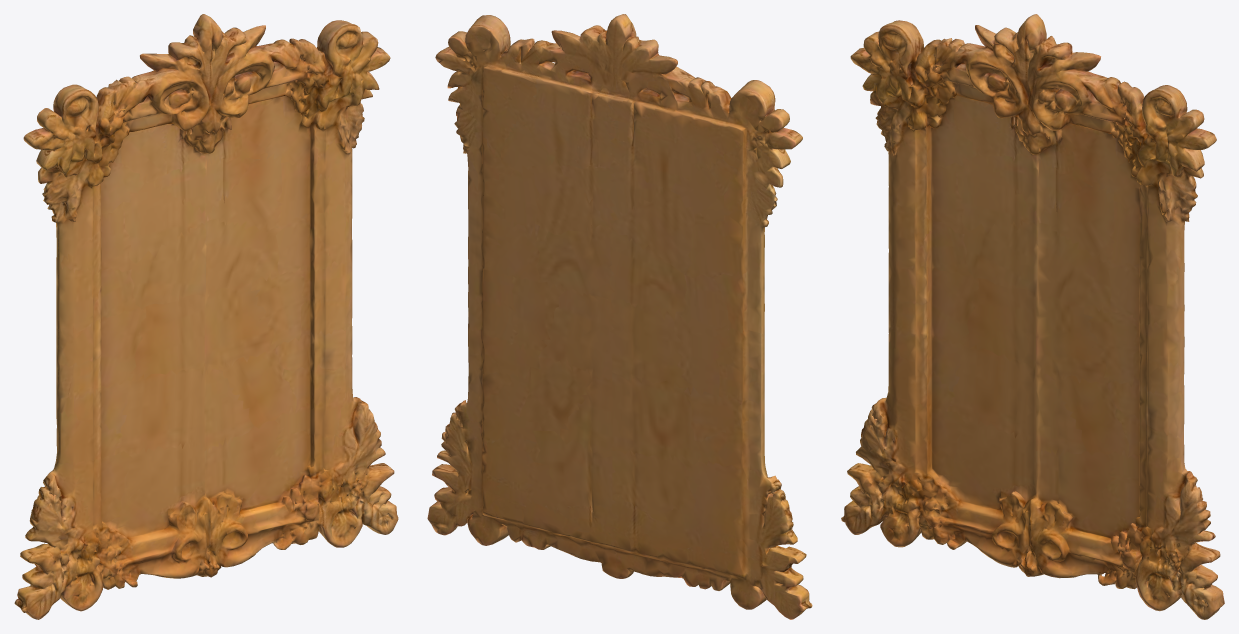
The picture shows the model from 3 angles, left to right: view 1: azimuth 30°, elevation 25°; view 2: azimuth 150°, elevation 25°; view 3: azimuth 330°, elevation 25°; orthographic projection.
Bounding box in the file's own units: 1.41 × 2 × 0.1099.
Materials: 1 (1 with a texture image).
